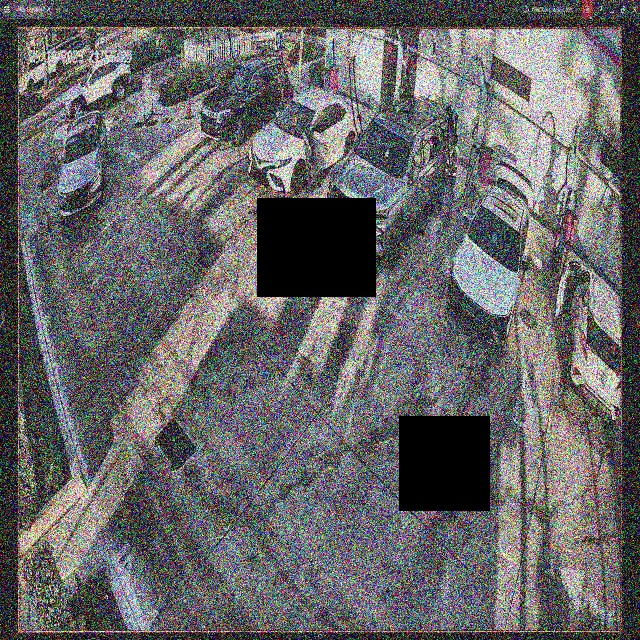Car: (328, 100, 456, 275), (449, 161, 534, 344), (249, 86, 359, 193), (201, 58, 292, 146)
